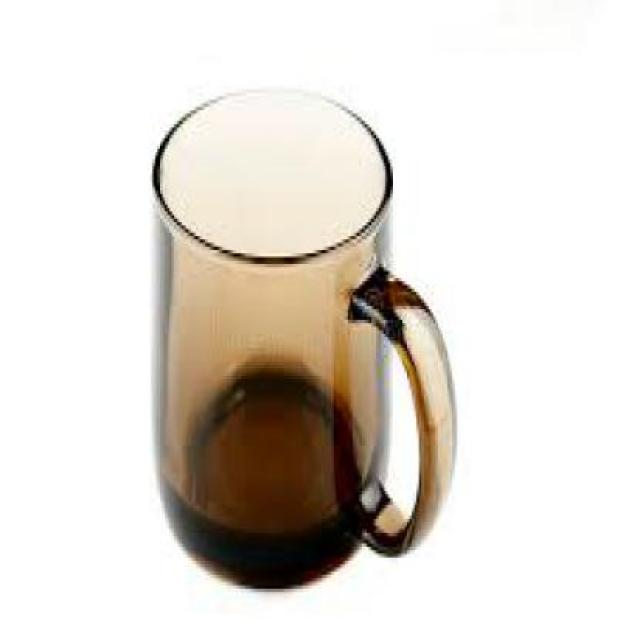kaca: (149, 82, 458, 588)
